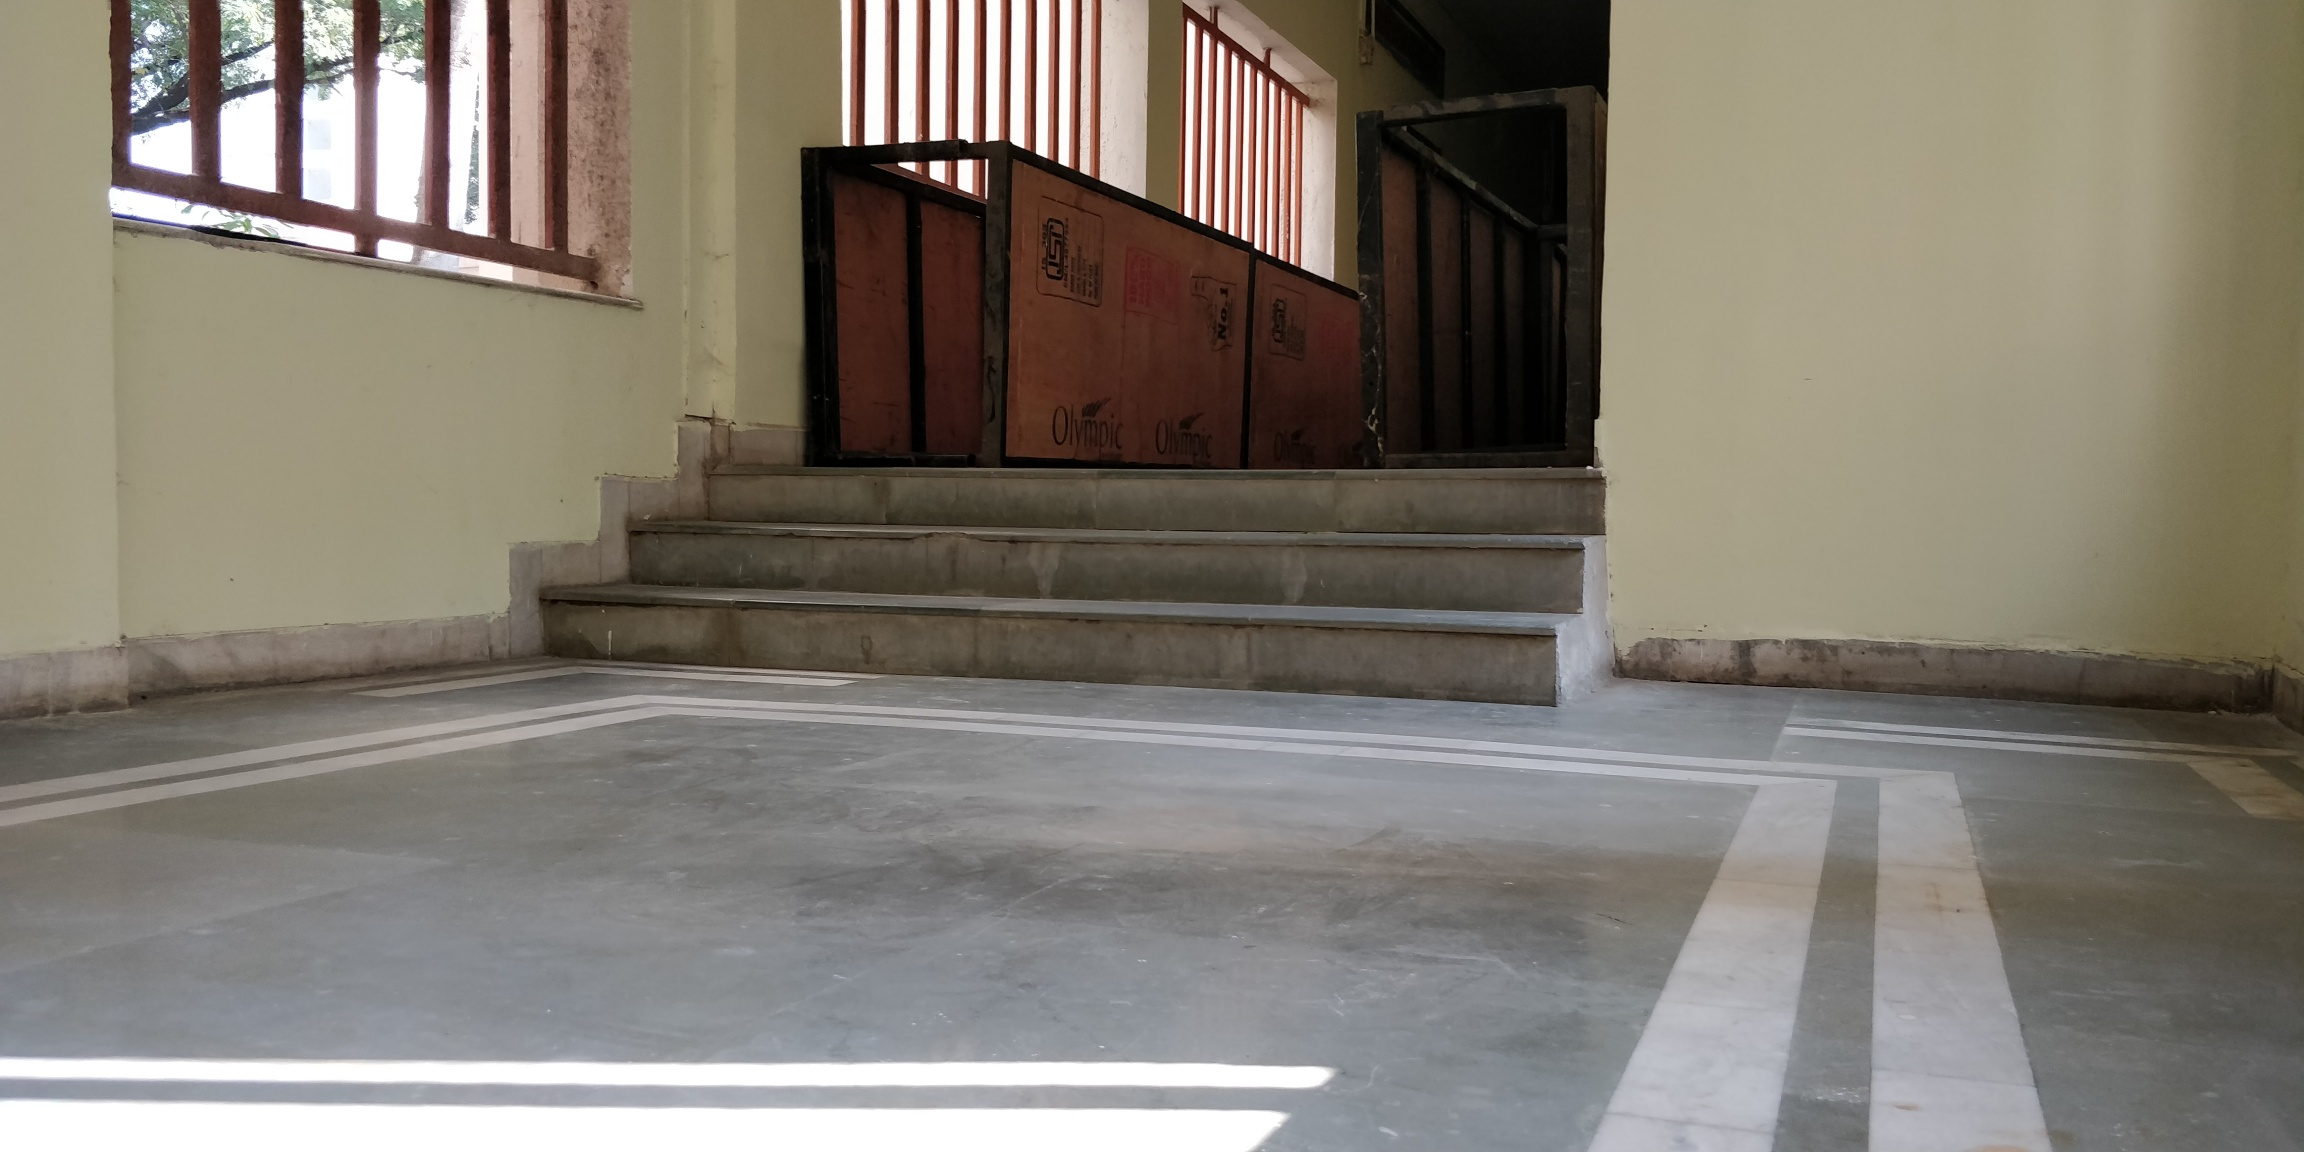stairs_up: (503, 460, 1608, 721)
